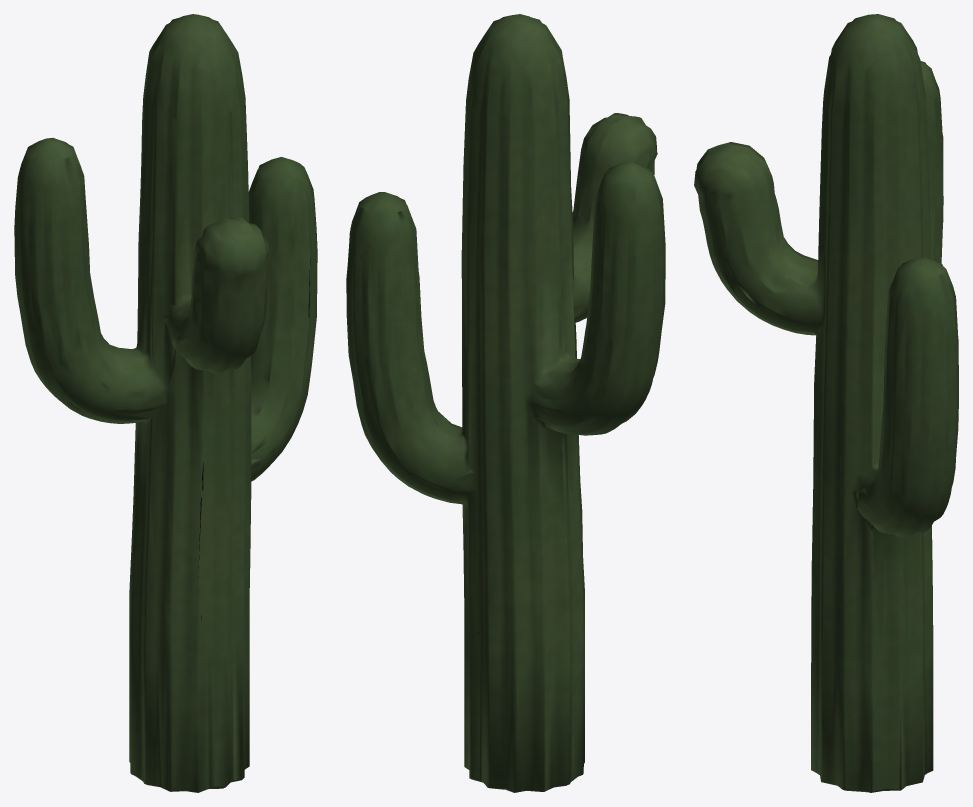
Rendered from cactus.glb.
The picture shows the model from 3 angles, left to right: view 1: azimuth 30°, elevation 25°; view 2: azimuth 150°, elevation 25°; view 3: azimuth 270°, elevation 25°; orthographic projection.
Parts seen in each view (by area): view 1: cactus; view 2: cactus; view 3: cactus.
Boxes of the visible parts, x1,y1,x2,y2 form: cactus: [14, 14, 317, 792]; cactus: [346, 14, 665, 792]; cactus: [694, 14, 958, 792].
Bounding box in the file's own units: 1.53 × 3.62 × 1.15.
Materials: 1 (1 with a texture image).
